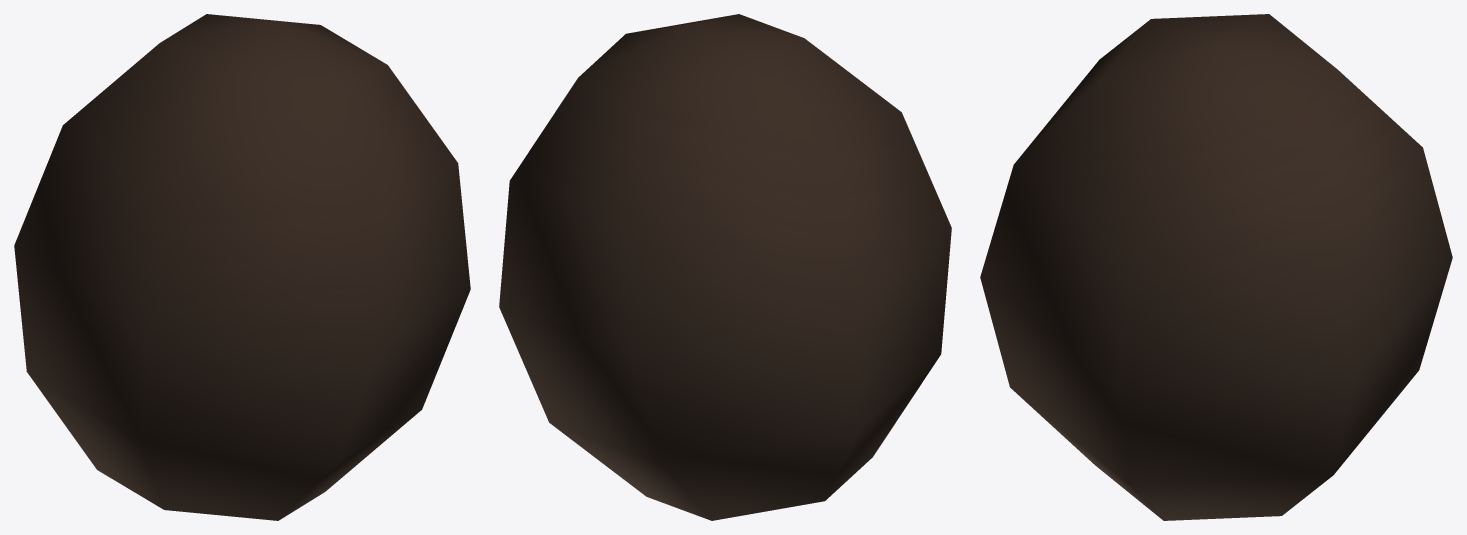
File: Coconut.fbx
The picture shows the model from 3 angles, left to right: view 1: azimuth 30°, elevation 25°; view 2: azimuth 150°, elevation 25°; view 3: azimuth 270°, elevation 25°; orthographic projection. The views are drawn at different scales.
Parts seen in each view (by area): view 1: Cylinder.192; view 2: Cylinder.192; view 3: Cylinder.192.
Boxes of the visible parts, bbox=[...] form: Cylinder.192: bbox=[14, 14, 470, 520]; Cylinder.192: bbox=[499, 14, 951, 520]; Cylinder.192: bbox=[980, 14, 1452, 520].
Size of the model in its own units: 54.67 by 68.45 by 60.66.
